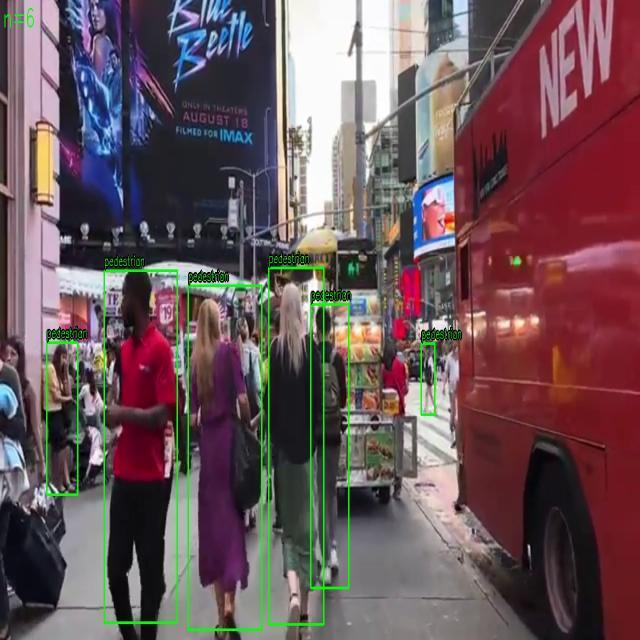with scooter: (104, 270, 178, 623), (188, 286, 262, 630), (268, 267, 324, 625), (310, 304, 350, 588), (46, 342, 78, 495), (421, 343, 435, 415)
